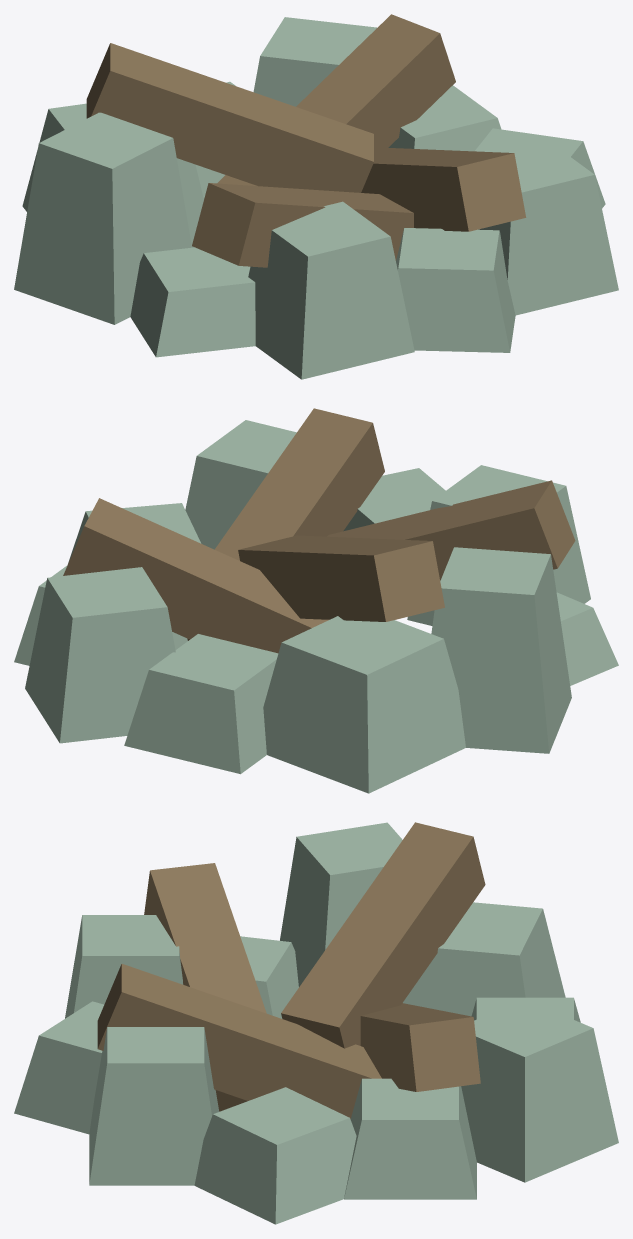
Rendered from campfire.fbx.
3 renders of one model, top to bottom at view 1: azimuth 30°, elevation 25°; view 2: azimuth 150°, elevation 25°; view 3: azimuth 270°, elevation 25°, orthographic. The views are drawn at different scales.
Visible parts, largest first — view 1: campfire; view 2: campfire; view 3: campfire.
Part boxes in pixels (<box>): campfire: <box>14,14,618,379</box>; campfire: <box>14,408,618,793</box>; campfire: <box>14,822,618,1224</box>.
Size of the model in its own units: 27.78 by 9.35 by 26.92.
